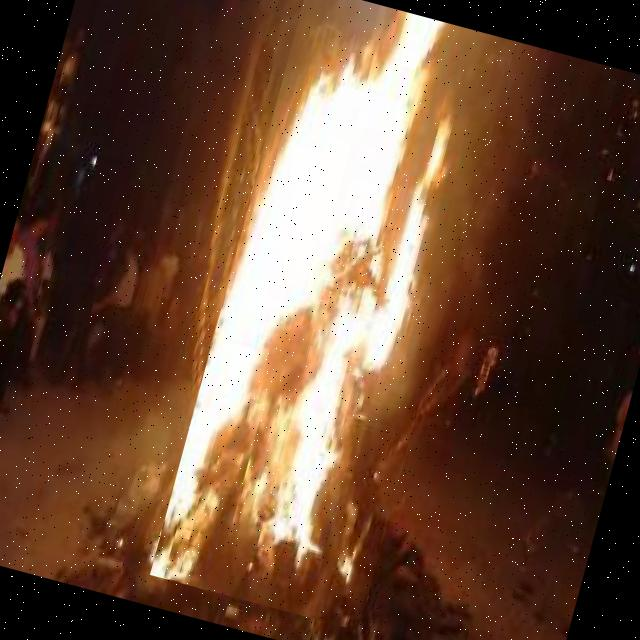fire: (149, 0, 516, 630)
